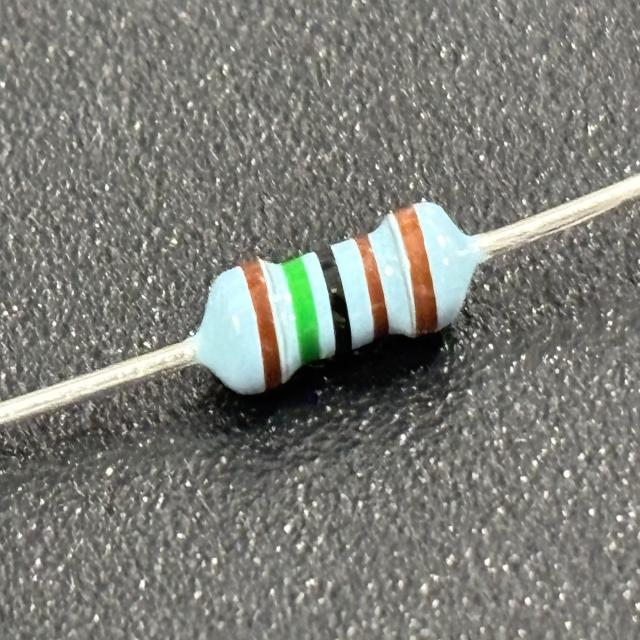resistor: (204, 200, 465, 399)
